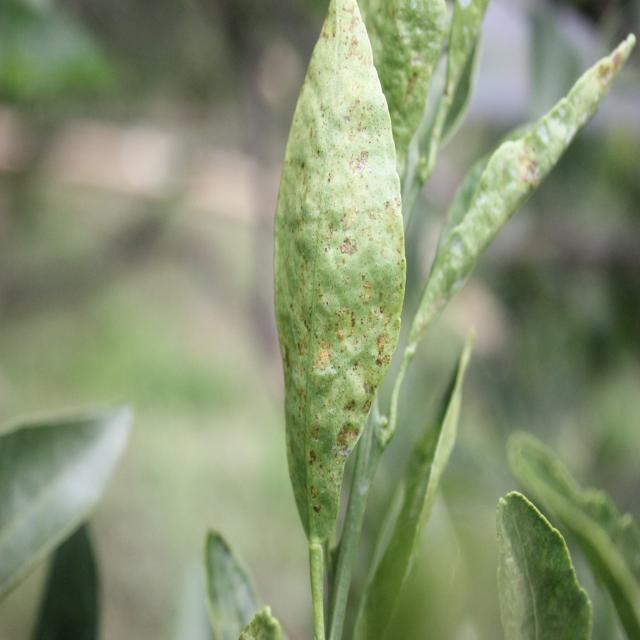canker: (272, 0, 401, 515), (457, 48, 629, 274), (369, 0, 425, 134)
